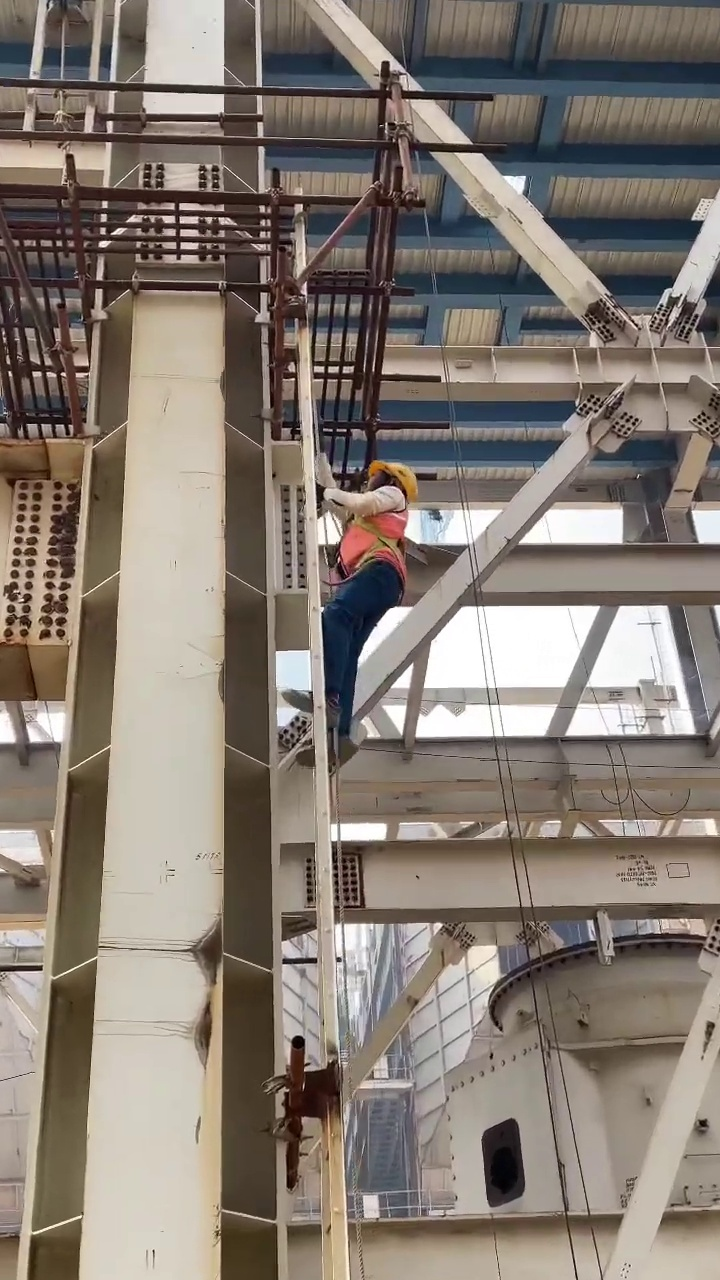Helmet: (368, 456, 419, 501)
Person: (281, 455, 419, 763)
Safety_Harness: (336, 509, 410, 575)
Safety_shoes: (279, 688, 339, 727), (296, 741, 360, 771), (65, 5, 87, 31), (46, 1, 63, 23)
